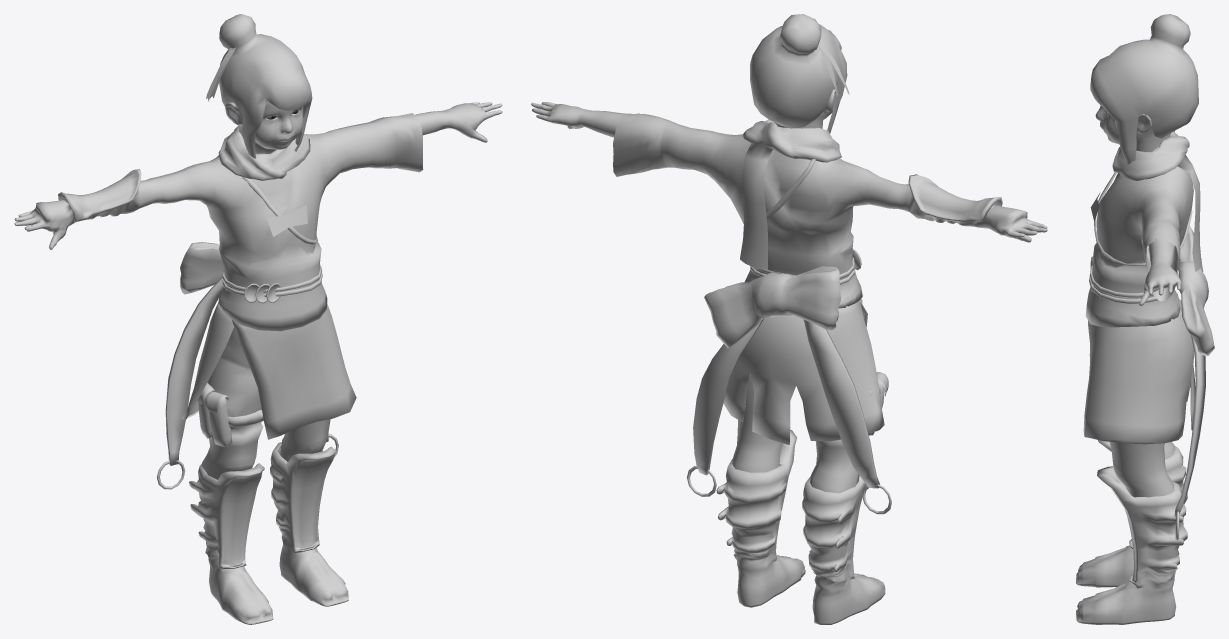
Rendered from MayaNinjaMeshonly.fbx.
3 renders of one model, left to right at view 1: azimuth 30°, elevation 25°; view 2: azimuth 150°, elevation 25°; view 3: azimuth 270°, elevation 25°, orthographic. The views are drawn at different scales.
Visible parts, largest first — view 1: Kachujin, MayaHeadLow; view 2: Kachujin; view 3: Kachujin, MayaHeadLow.
Boxes of the visible parts, box(x1,y1,x2,y2) form: Kachujin: box(14, 14, 502, 624); MayaHeadLow: box(225, 101, 303, 153); Kachujin: box(531, 14, 1047, 624); Kachujin: box(1076, 14, 1214, 624); MayaHeadLow: box(1095, 105, 1170, 151).
Bounding box in the file's own units: 162 × 180 × 39.37.
